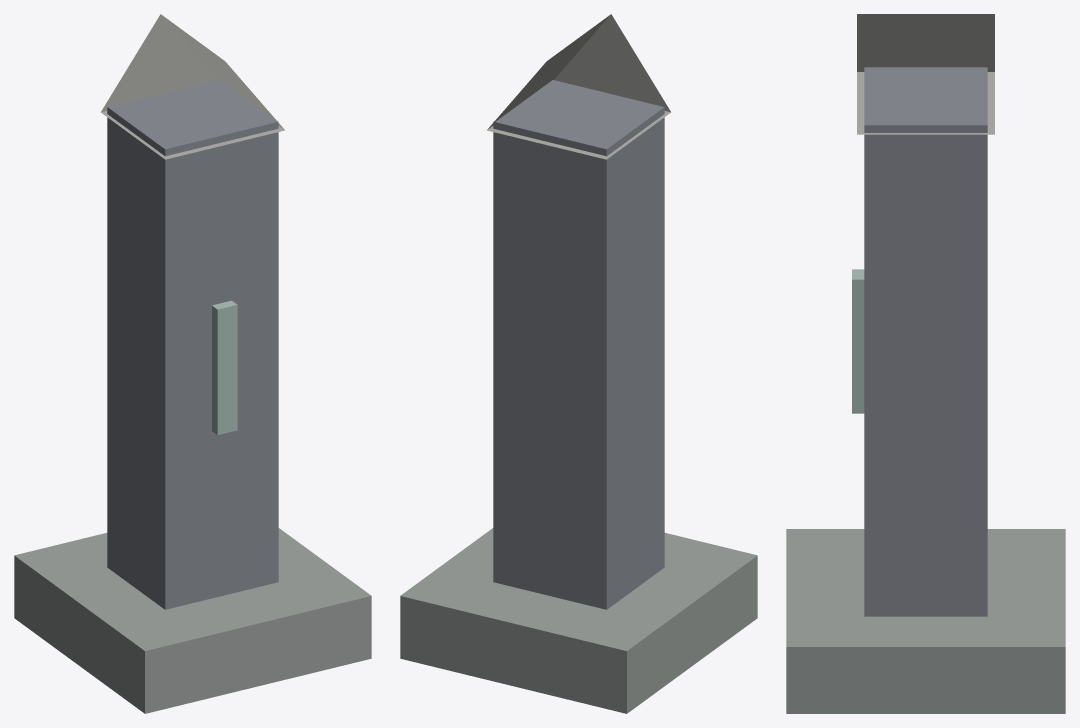
File: obelisco.glb
The picture shows the model from 3 angles, left to right: view 1: azimuth 30°, elevation 25°; view 2: azimuth 150°, elevation 25°; view 3: azimuth 270°, elevation 25°; orthographic projection. The views are drawn at different scales.
Visible parts, largest first — view 1: part_001, part_000, part_002, part_003; view 2: part_001, part_000, part_002; view 3: part_001, part_000, part_002, part_003.
Boxes of the visible parts, x1,y1,x2,y2 form: part_001: (107,80,278,609); part_000: (14,528,371,713); part_002: (100,14,284,159); part_003: (212,300,237,435); part_001: (493,80,664,609); part_000: (400,528,757,713); part_002: (487,14,671,159); part_001: (864,67,987,616); part_000: (786,529,1065,713); part_002: (857,14,994,134); part_003: (852,269,864,413).
Size of the model in its own units: 1.7 by 4.31 by 1.7.
